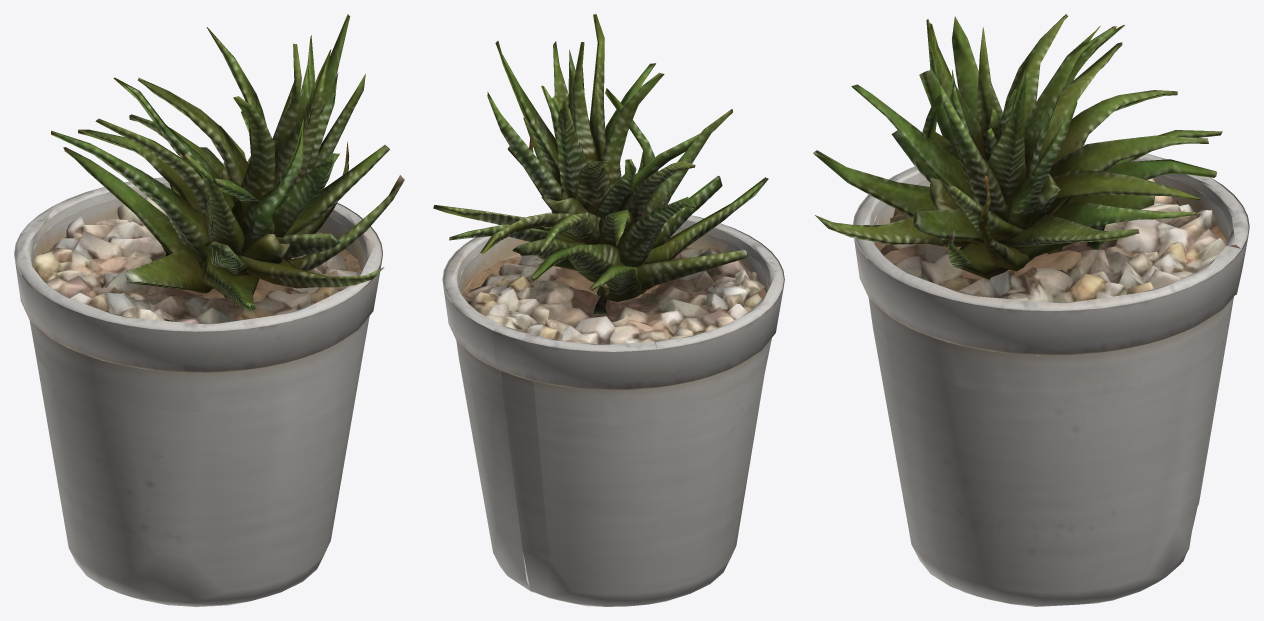
Rendered from potted_plant.glb.
The picture shows the model from 3 angles, left to right: view 1: azimuth 30°, elevation 25°; view 2: azimuth 150°, elevation 25°; view 3: azimuth 270°, elevation 25°; orthographic projection. The views are drawn at different scales.
Parts seen in each view (by area): view 1: potted_plant_04_ground; view 2: potted_plant_04_ground; view 3: potted_plant_04_ground.
Boxes of the visible parts, x1,y1,x2,y2 form: potted_plant_04_ground: [14, 14, 404, 606]; potted_plant_04_ground: [433, 14, 784, 606]; potted_plant_04_ground: [813, 14, 1249, 606].
Size of the model in its own units: 0.168 by 0.2674 by 0.1846.
1 material, 1 textured.
